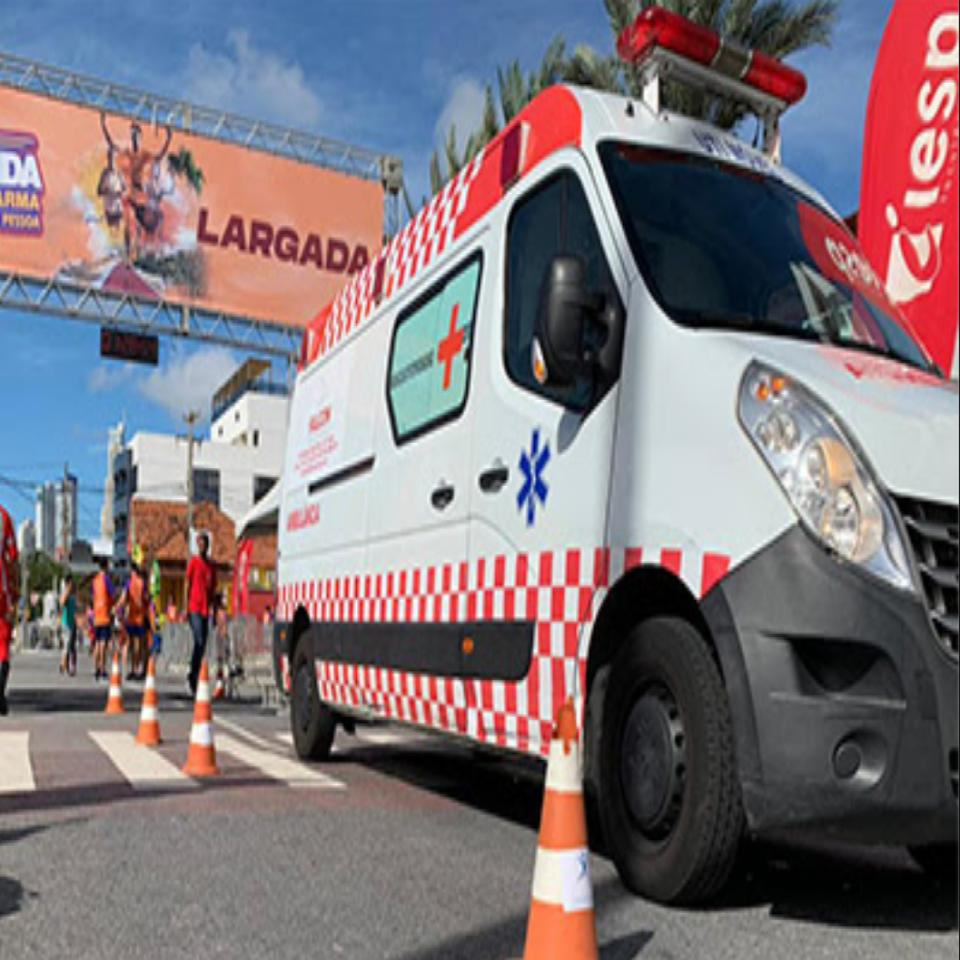bombeiro: (274, 5, 960, 904)
